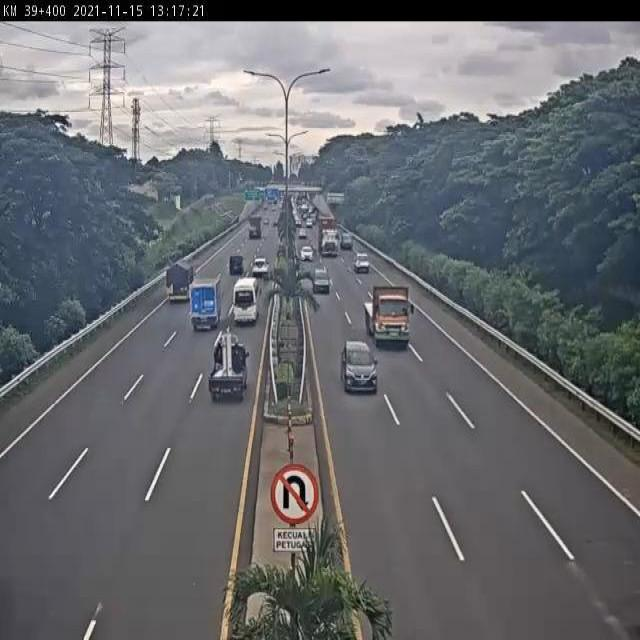bus-s-: (231, 276, 261, 327)
car: (340, 336, 379, 396), (311, 264, 332, 295), (252, 255, 272, 280), (228, 251, 246, 276)
truck-l-: (363, 284, 413, 347)
truck-s-: (206, 332, 249, 403), (189, 275, 224, 332), (166, 260, 196, 303), (354, 250, 372, 274)
